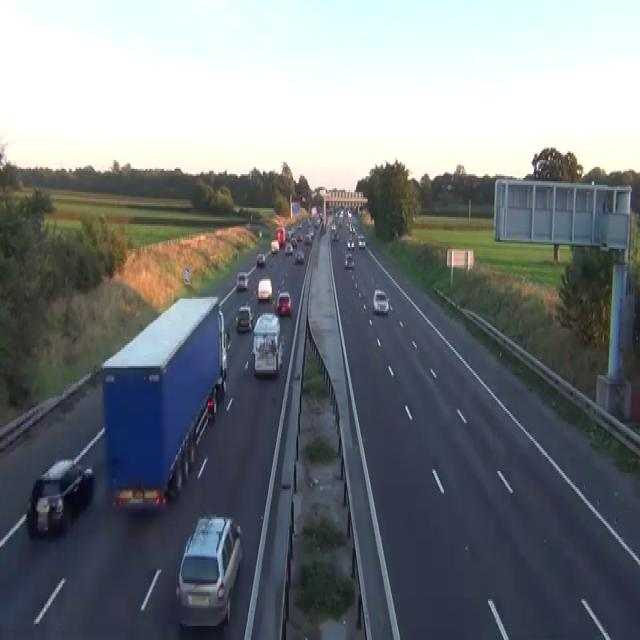Car: (175, 514, 242, 628), (26, 457, 94, 537), (251, 311, 283, 377), (217, 310, 227, 380), (235, 304, 253, 332), (372, 288, 389, 315), (276, 290, 292, 316), (206, 388, 216, 422), (257, 278, 272, 300), (215, 375, 226, 398), (236, 270, 248, 290), (344, 252, 354, 270), (225, 324, 231, 350), (357, 233, 365, 249), (256, 252, 265, 266), (270, 240, 279, 254), (295, 249, 304, 263), (330, 222, 337, 238), (284, 242, 293, 254), (346, 238, 354, 251), (331, 228, 338, 240), (304, 233, 312, 243), (313, 217, 320, 227), (290, 237, 297, 247), (345, 220, 351, 230), (347, 208, 352, 217), (331, 222, 336, 231), (351, 224, 355, 233), (258, 230, 262, 237)
Truck: (101, 293, 227, 512)
